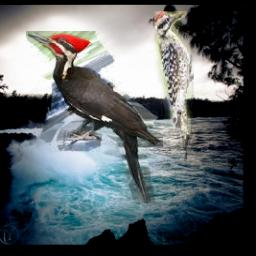Woodpecker: (25, 31, 162, 203), (153, 11, 193, 161)
